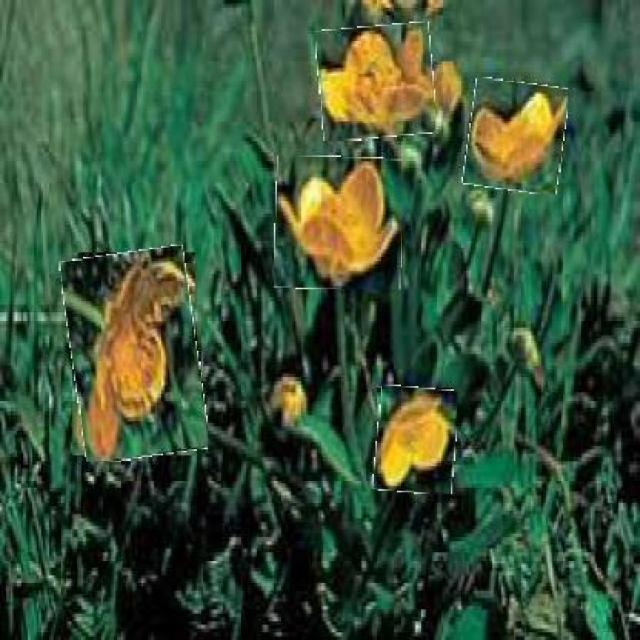Flower: (66, 248, 203, 461), (275, 156, 403, 290), (318, 24, 436, 139), (465, 81, 567, 193), (375, 386, 458, 494)
